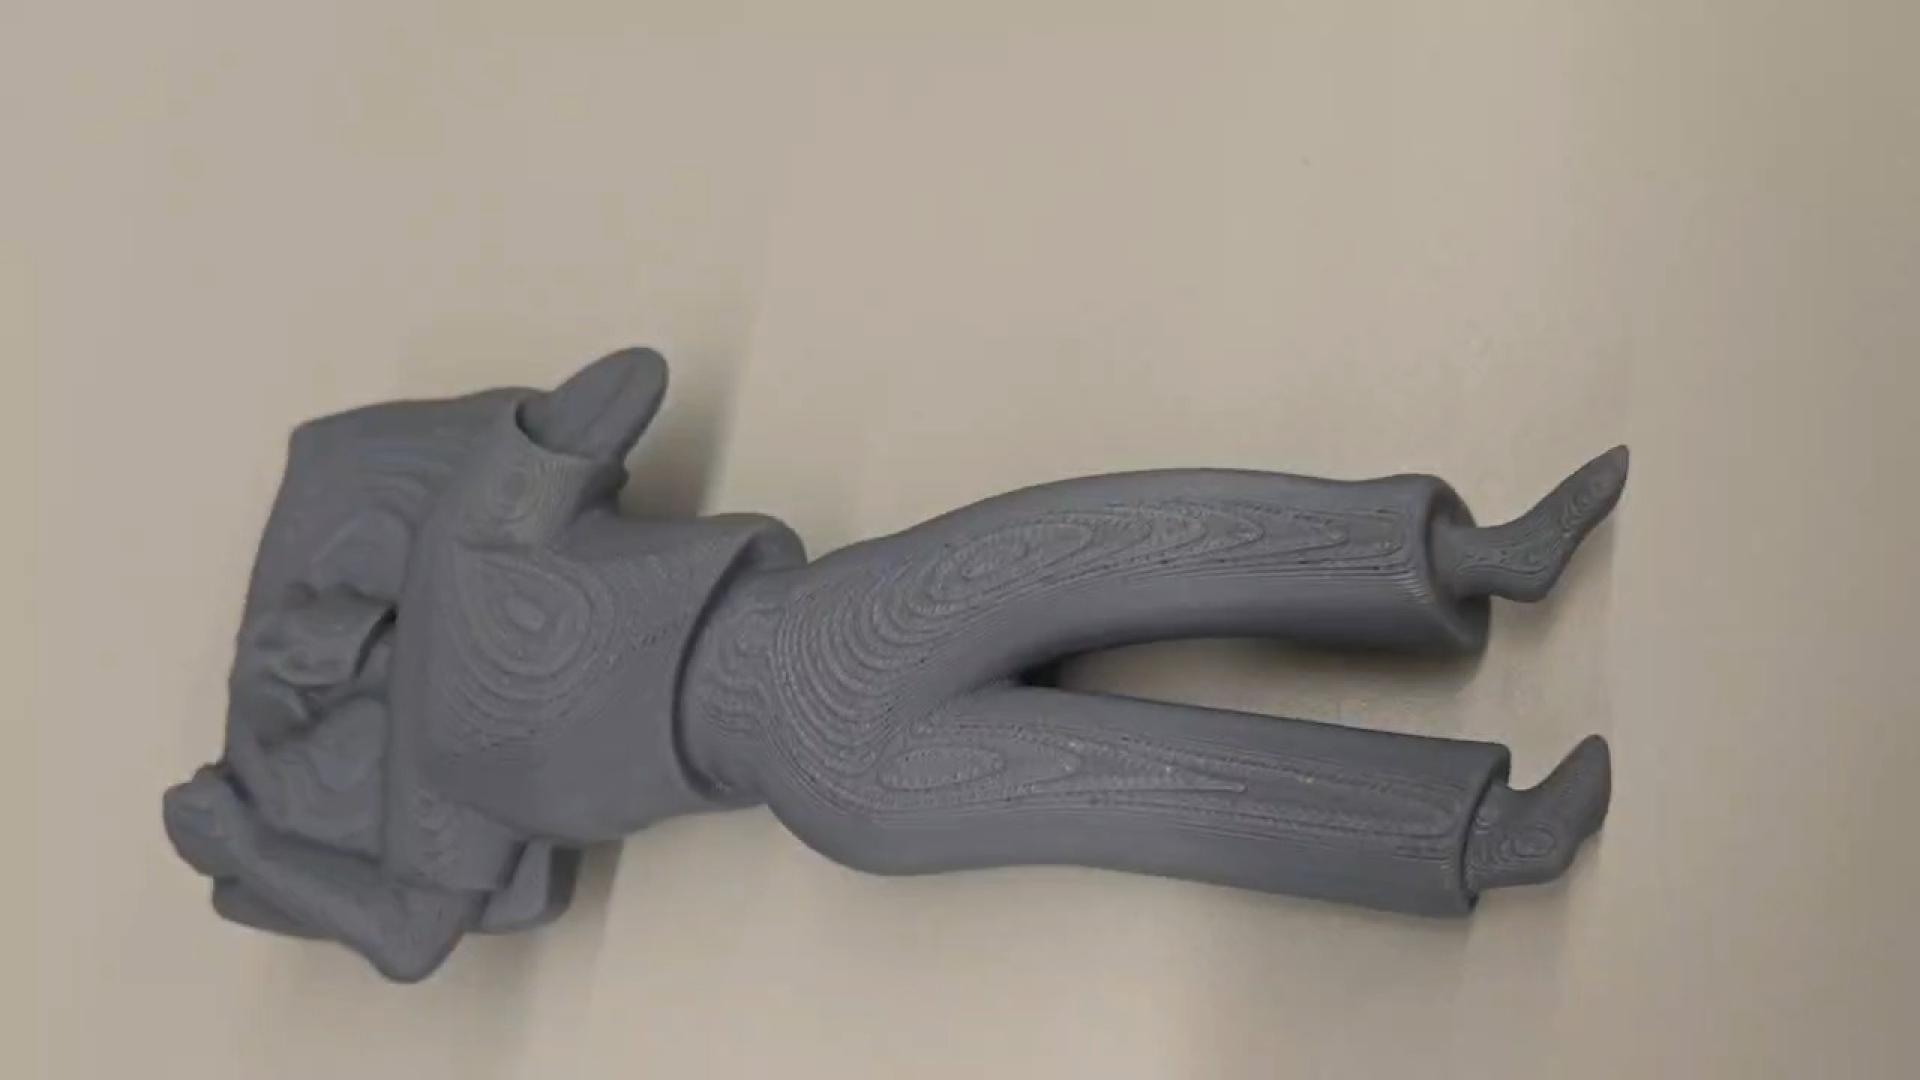Bad-style: (158, 338, 1640, 982)
